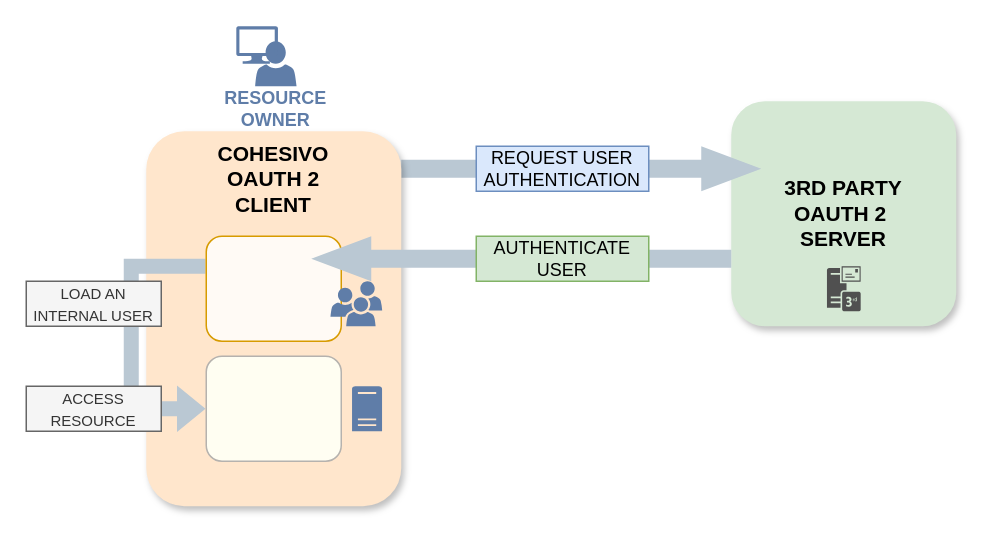
Some shapes in this 992 by 542 pixel diagram are drawn without their labels. Here are the shapes that lost their labels. From the top down, the centre of each, then its label:
At (x=273, y=288): "USERS (RESOURCE OWNERS)".
At (x=273, y=408): "RESOURCE SERVER".
